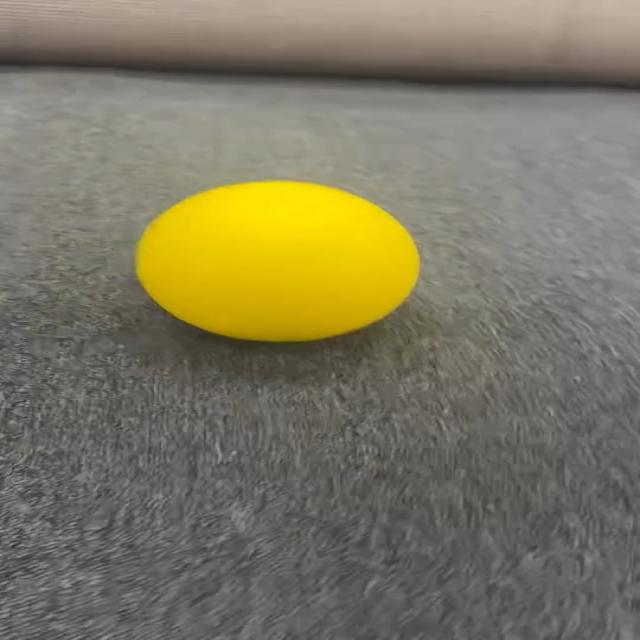Fuels: (133, 182, 413, 340)
